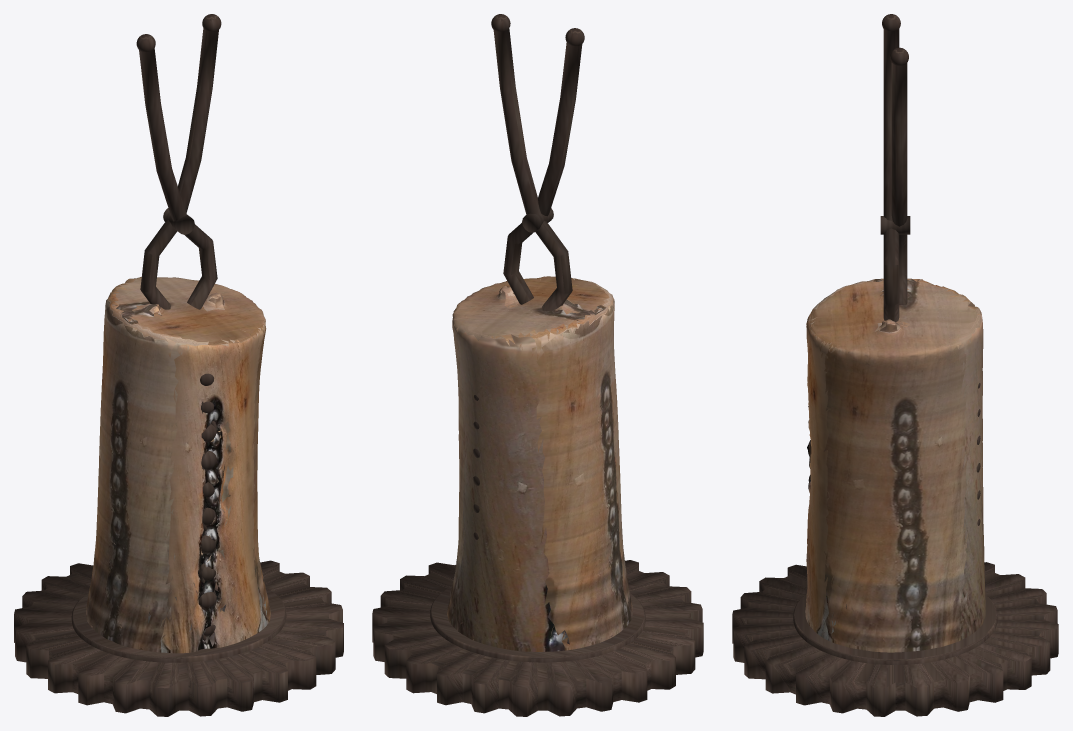
The model's file is hy3d-esc-042.glb.
3 renders of one model, left to right at view 1: azimuth 30°, elevation 25°; view 2: azimuth 150°, elevation 25°; view 3: azimuth 270°, elevation 25°, orthographic.
Visible parts, largest first — view 1: world; view 2: world; view 3: world.
Boxes of the visible parts, box(x1,y1,x2,y2) form: world: box(14, 14, 343, 716); world: box(372, 14, 703, 716); world: box(732, 14, 1058, 716).
Size of the model in its own units: 0.5854 by 1.22 by 0.5854.
Materials: 1 (1 with a texture image).
